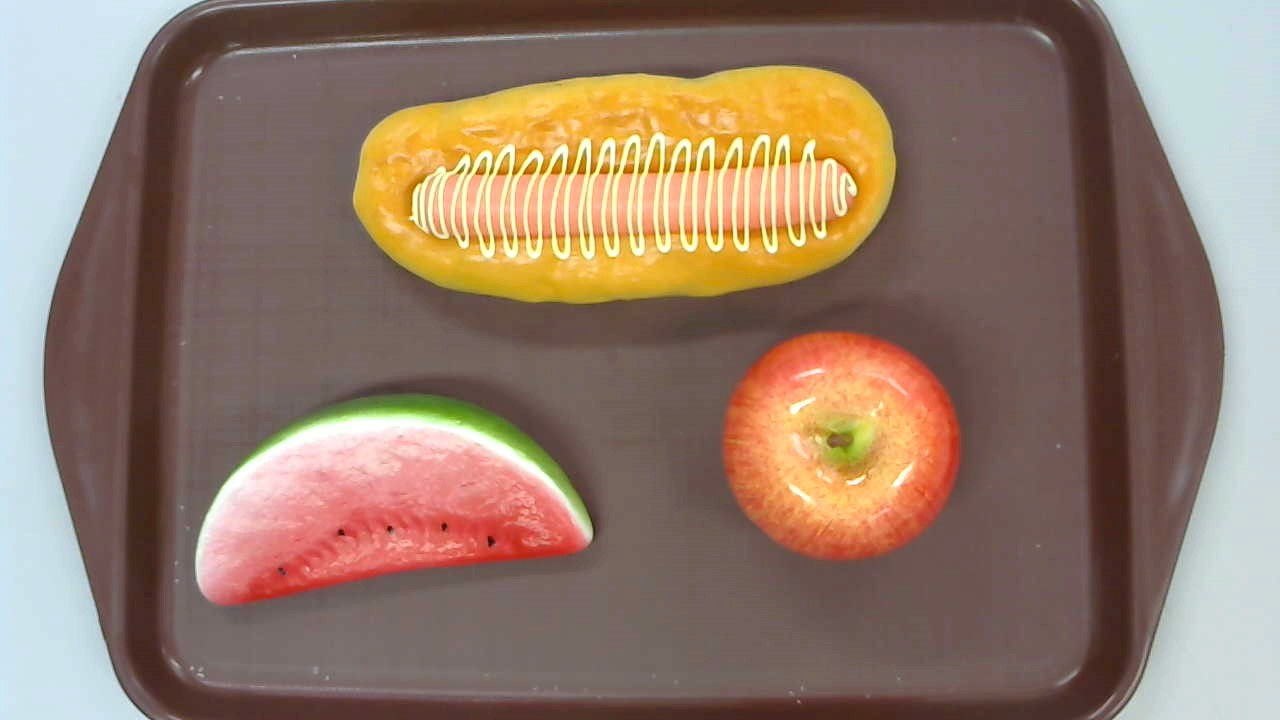hot dog: (351, 65, 896, 305)
red apple: (722, 331, 960, 561)
water melon: (194, 392, 593, 606)
